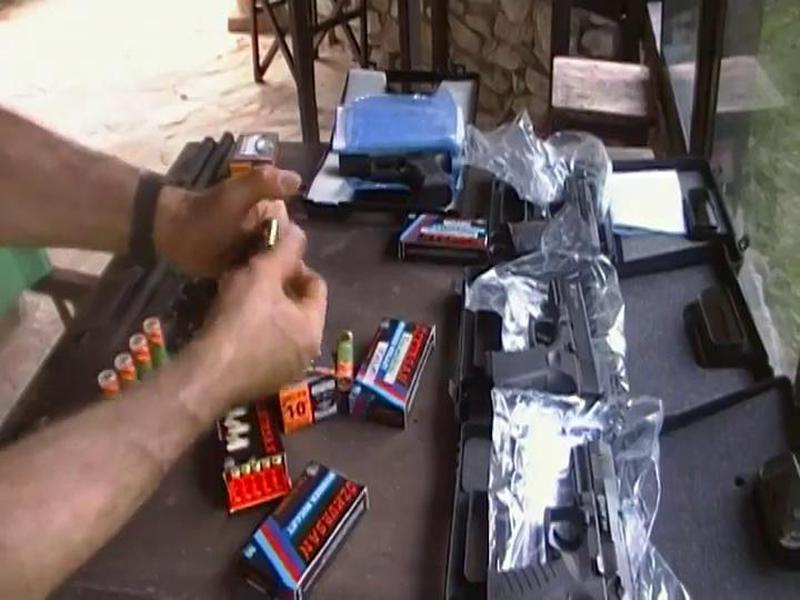Pistola: (460, 270, 612, 416)
